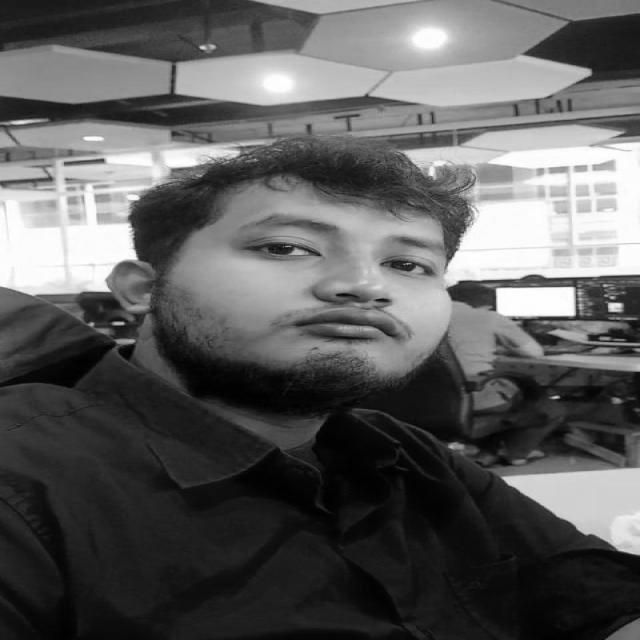real: (128, 198, 454, 406)
